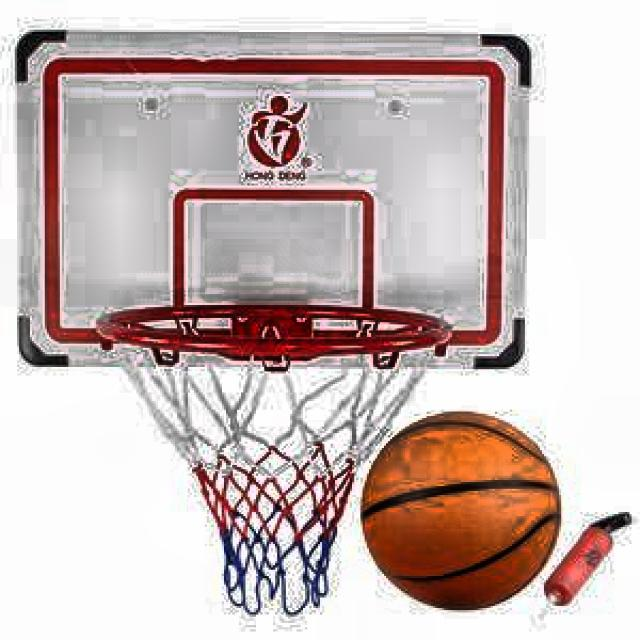board: (363, 409, 561, 616)
rim: (91, 304, 451, 607)
